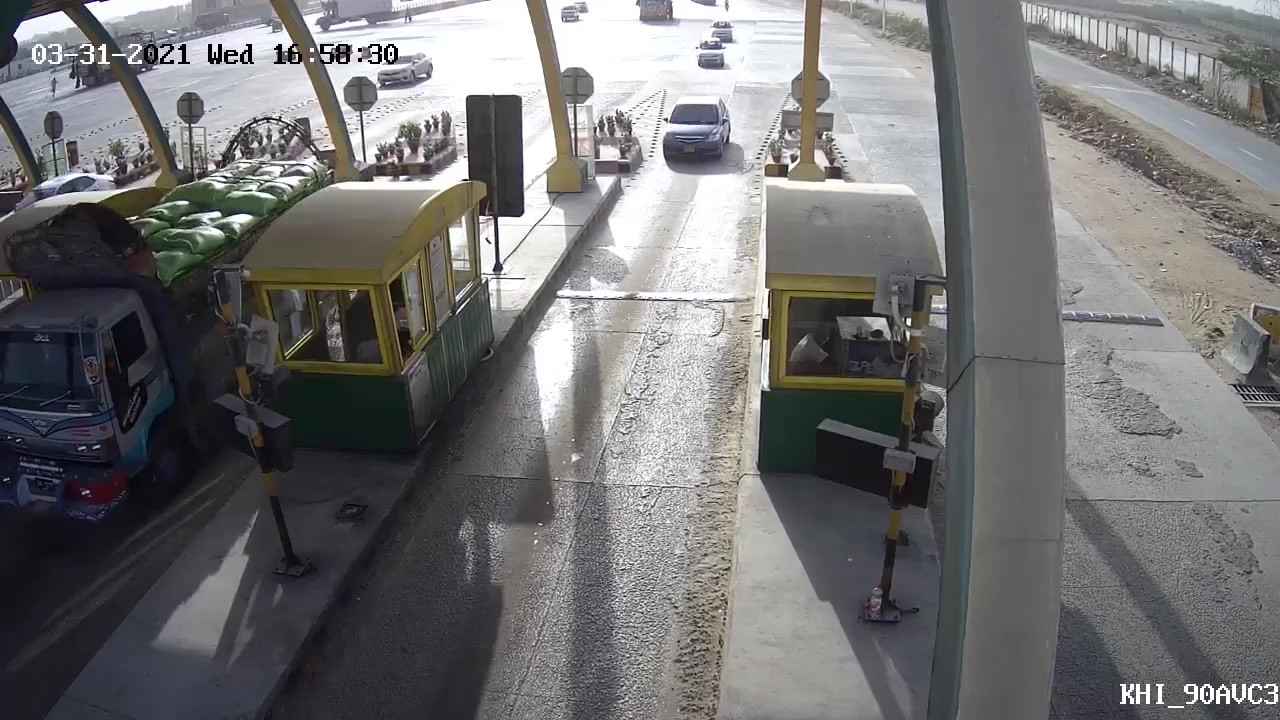F1: (657, 91, 740, 168), (690, 38, 729, 66)
